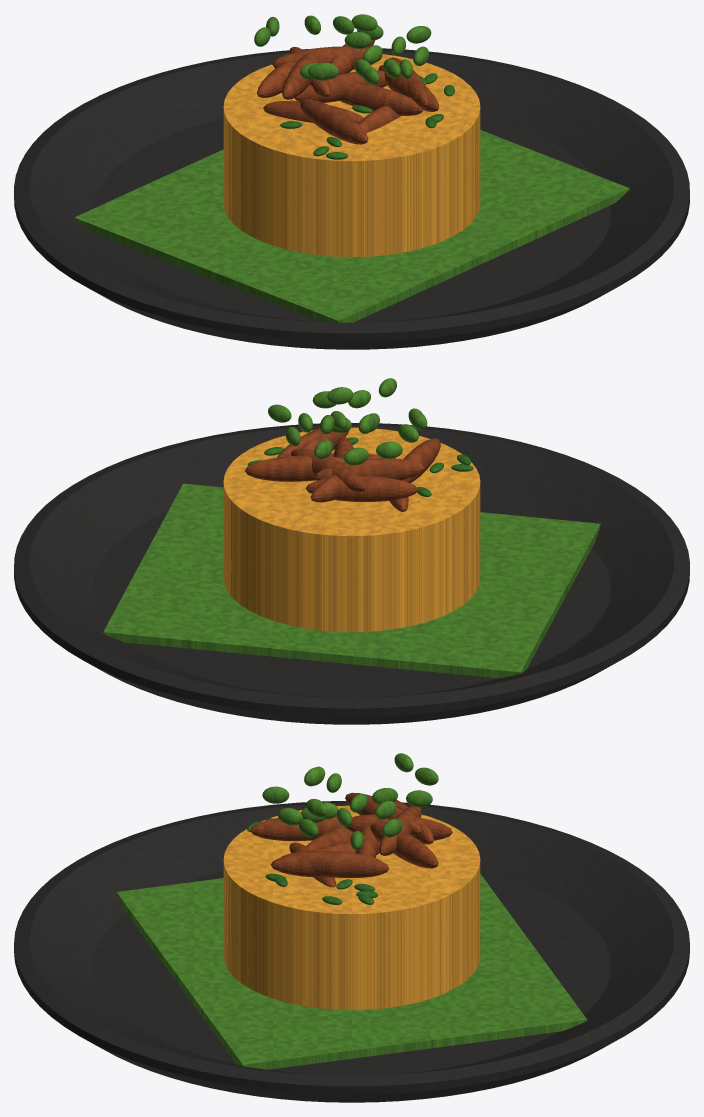
Rendered from tamal-deconstruido.glb.
3 renders of one model, top to bottom at view 1: azimuth 30°, elevation 25°; view 2: azimuth 150°, elevation 25°; view 3: azimuth 270°, elevation 25°, orthographic.
Visible parts, largest first — view 1: part0, part1, part2, part3, part4; view 2: part0, part1, part2, part3, part4; view 3: part0, part1, part2, part3, part4.
Boxes of the visible parts, x1,y1,x2,y2 form: part0: (14, 48, 689, 349); part1: (74, 14, 629, 322); part2: (223, 54, 480, 257); part3: (257, 40, 439, 144); part4: (280, 73, 454, 159); part0: (14, 423, 689, 724); part1: (103, 378, 600, 678); part2: (223, 427, 480, 632); part3: (245, 428, 440, 511); part4: (248, 437, 473, 496); part0: (14, 801, 689, 1102); part1: (116, 753, 587, 1069); part2: (223, 805, 480, 1010); part3: (250, 792, 452, 887); part4: (247, 818, 378, 904).
Size of the model in its own units: 0.3 by 0.101 by 0.3.
Materials: 5 (5 with a texture image).
